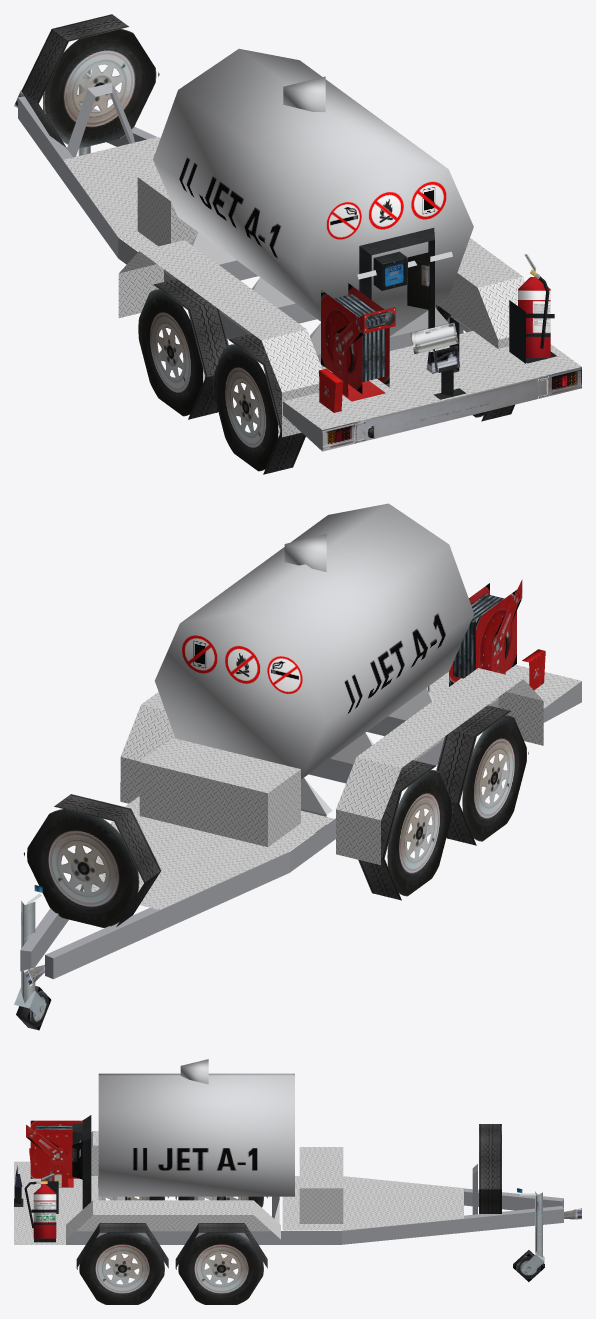
File: fuel-trailer2-5m-cbj_LOD04.gltf
3 views of the same model, one above another, from view 1: azimuth 30°, elevation 25°; view 2: azimuth 150°, elevation 25°; view 3: azimuth 270°, elevation 25° (orthographic). The views are drawn at different scales.
Visible parts, largest first — view 1: fuel-trailer2-4; view 2: fuel-trailer2-4; view 3: fuel-trailer2-4.
Part boxes in pixels (x1,y1,x2,y2): fuel-trailer2-4: [14, 14, 581, 474]; fuel-trailer2-4: [14, 503, 581, 1030]; fuel-trailer2-4: [14, 1059, 581, 1304].
Bounding box in the file's own units: 1.83 × 2.07 × 5.21.
